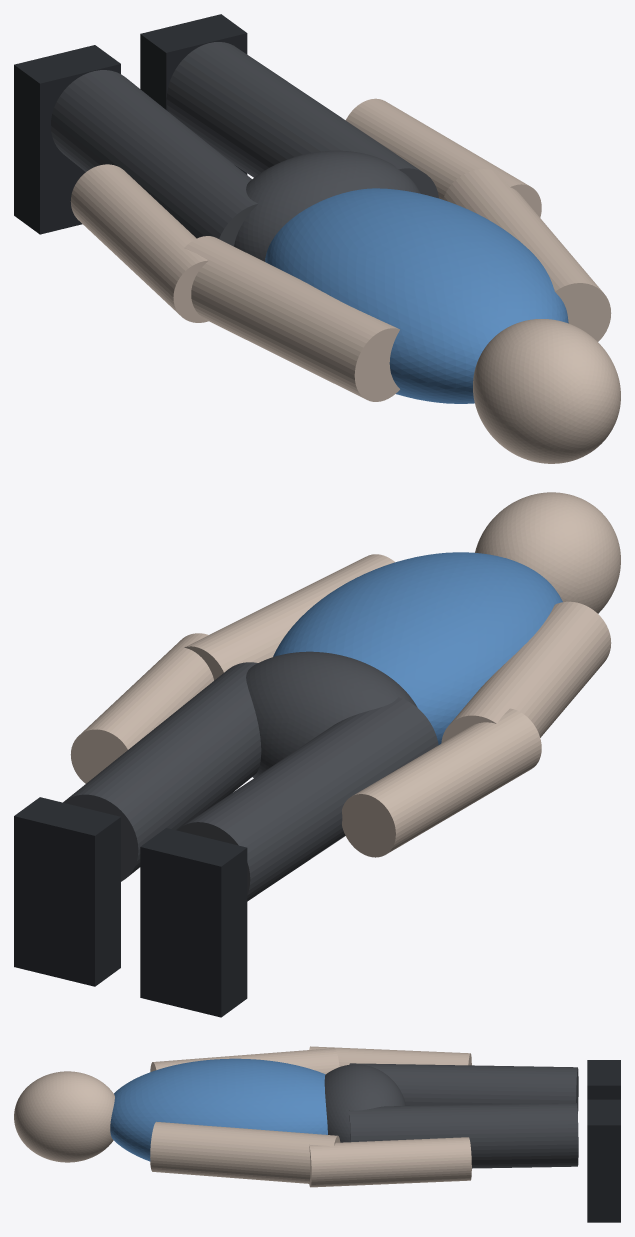
The model's file is SM_Pedestrian_CrowdProxy_HQ.glb.
The picture shows the model from 3 angles, top to bottom: view 1: azimuth 30°, elevation 25°; view 2: azimuth 150°, elevation 25°; view 3: azimuth 270°, elevation 25°; orthographic projection. The views are drawn at different scales.
Parts seen in each view (by area): view 1: torso, leg_-1, upperarm_-1, head, leg_1, forearm_-1, shoe_-1, pelvis, upperarm_1, forearm_1, shoe_1; view 2: torso, leg_-1, shoe_-1, shoe_1, leg_1, forearm_-1, pelvis, head, upperarm_-1, forearm_1, upperarm_1; view 3: torso, leg_1, upperarm_1, head, leg_-1, forearm_1, shoe_1, pelvis, forearm_-1, upperarm_-1, shoe_-1.
Boxes of the visible parts, x1,y1,x2,y2 form: torso: (265, 188, 568, 403); leg_-1: (51, 70, 257, 246); upperarm_-1: (184, 236, 399, 401); head: (473, 319, 620, 463); leg_1: (166, 42, 438, 198); forearm_-1: (70, 164, 208, 322); shoe_-1: (14, 45, 120, 234); pelvis: (234, 150, 420, 261); upperarm_1: (443, 169, 611, 341); forearm_1: (345, 98, 541, 217); shoe_1: (140, 14, 247, 174); torso: (273, 552, 562, 744); leg_-1: (177, 697, 438, 901); shoe_-1: (140, 828, 247, 1017); shoe_1: (14, 797, 120, 986); leg_1: (63, 662, 261, 881); forearm_-1: (342, 708, 541, 857); pelvis: (246, 651, 417, 777); head: (475, 492, 620, 613); upperarm_-1: (441, 601, 611, 743); forearm_1: (70, 633, 213, 783); upperarm_1: (184, 554, 394, 680); torso: (110, 1058, 327, 1161); leg_1: (349, 1103, 578, 1168); upperarm_1: (150, 1121, 340, 1183); head: (14, 1071, 114, 1162); leg_-1: (349, 1063, 578, 1113); forearm_1: (309, 1137, 471, 1187); shoe_1: (587, 1099, 620, 1222); pelvis: (324, 1064, 405, 1142); forearm_-1: (309, 1046, 471, 1066); upperarm_-1: (150, 1048, 339, 1074); shoe_-1: (587, 1060, 620, 1099).
Size of the model in its own units: 0.8173 by 0.393 by 1.81.
